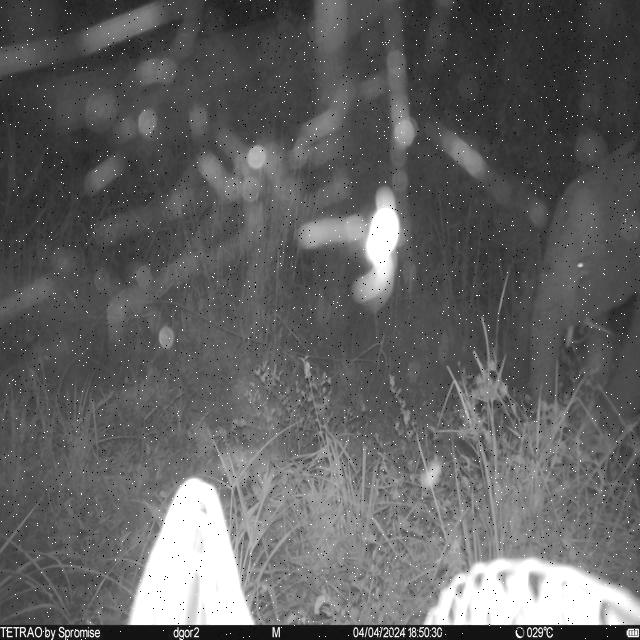calf: (526, 138, 640, 428)
tusk: (563, 327, 580, 349)
